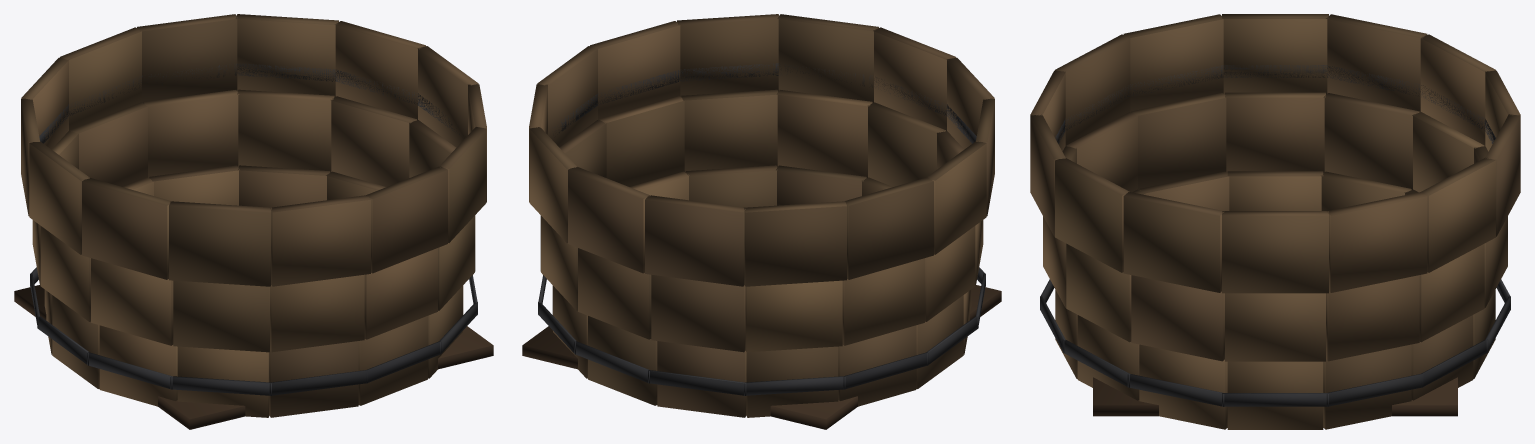
Rendered from tino.glb.
The picture shows the model from 3 angles, left to right: view 1: azimuth 30°, elevation 25°; view 2: azimuth 150°, elevation 25°; view 3: azimuth 270°, elevation 25°; orthographic projection. The views are drawn at different scales.
Visible parts, largest first — view 1: tino; view 2: tino; view 3: tino.
Part boxes in pixels (x1,y1,x2,y2): tino: [14, 14, 493, 429]; tino: [522, 14, 1001, 429]; tino: [1030, 14, 1520, 429].
Bounding box in the file's own units: 1.18 × 0.61 × 1.21.
